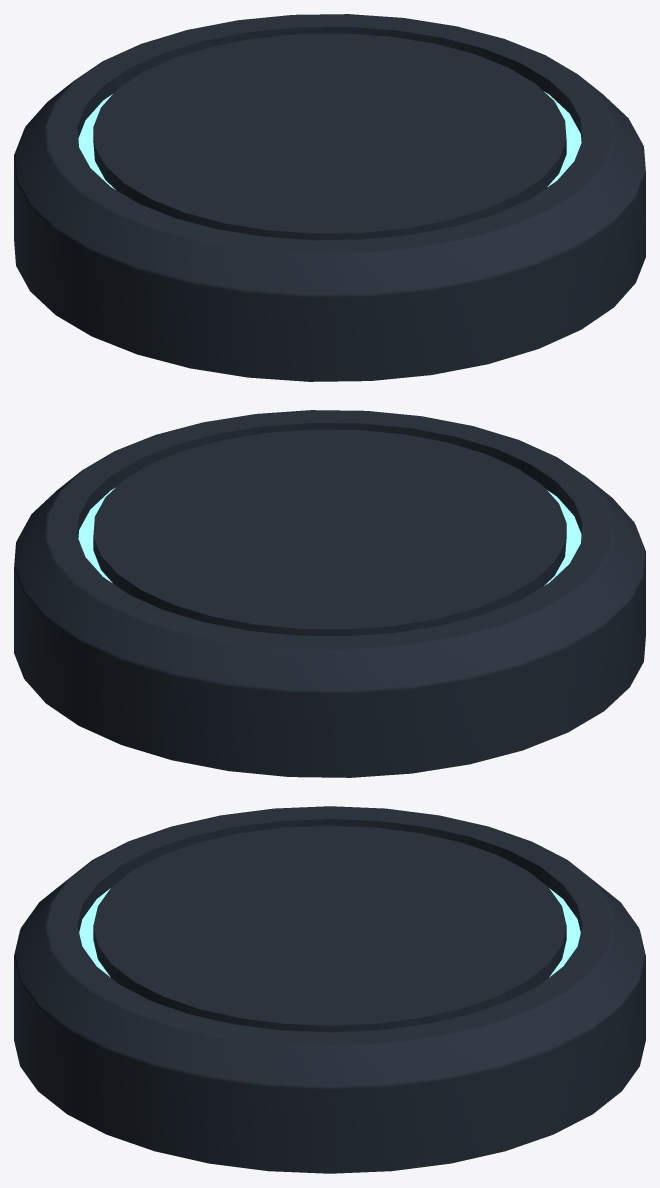
Rendered from podiumnocollider.gltf.
3 renders of one model, top to bottom at view 1: azimuth 30°, elevation 25°; view 2: azimuth 150°, elevation 25°; view 3: azimuth 270°, elevation 25°, orthographic.
Visible parts, largest first — view 1: podium.001; view 2: podium.001; view 3: podium.001.
Part boxes in pixels (box(x1,y1,x2,y2)): podium.001: box(14, 14, 645, 381); podium.001: box(14, 410, 645, 777); podium.001: box(14, 806, 645, 1173).
Bounding box in the file's own units: 1.25 × 0.25 × 1.25.
